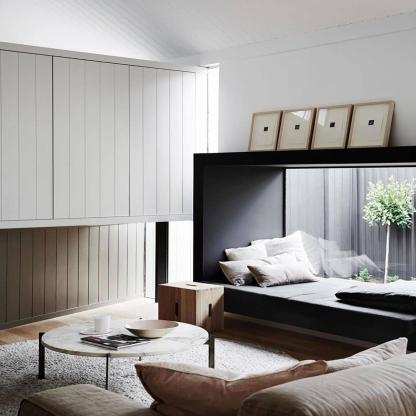meja: (28, 316, 228, 384)
tanaman: (359, 174, 416, 232)
